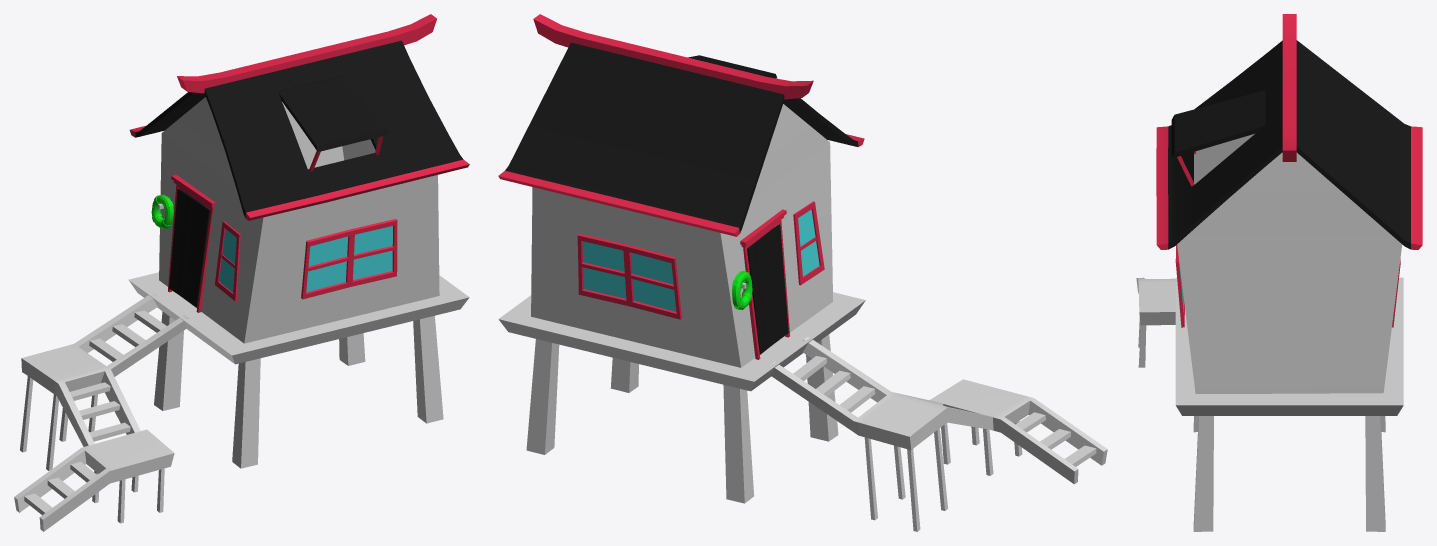
Rendered from SquareHut.fbx.
The picture shows the model from 3 angles, left to right: view 1: azimuth 30°, elevation 25°; view 2: azimuth 150°, elevation 25°; view 3: azimuth 270°, elevation 25°; orthographic projection. The views are drawn at different scales.
Visible parts, largest first — view 1: house_supports___Texture_3, house_supports___Texture_3.001; view 2: house_supports___Texture_3, house_supports___Texture_3.001; view 3: house_supports___Texture_3, house_supports___Texture_3.001.
Part boxes in pixels (x1,y1,x2,y2): house_supports___Texture_3: (14, 97, 469, 531); house_supports___Texture_3.001: (129, 14, 469, 220); house_supports___Texture_3: (498, 104, 1107, 531); house_supports___Texture_3.001: (498, 14, 864, 236); house_supports___Texture_3: (1136, 134, 1403, 531); house_supports___Texture_3.001: (1156, 14, 1422, 249).
Bounding box in the file's own units: 1380 × 1041 × 674.
